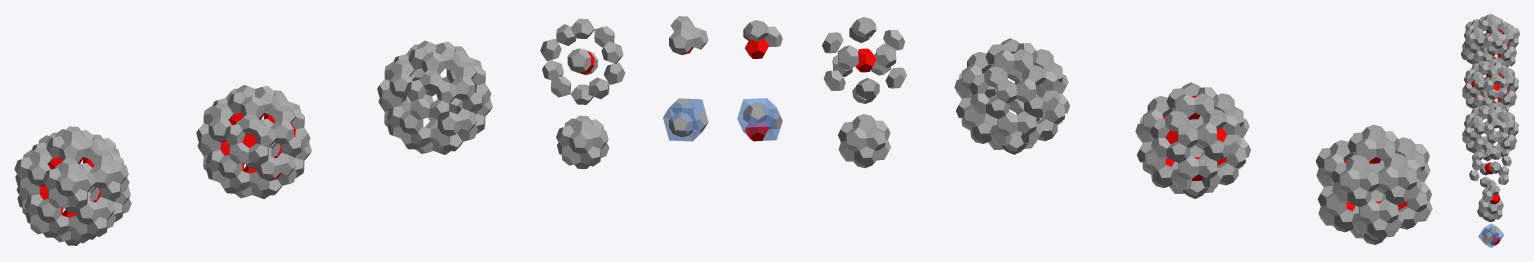
The model's file is form1.dae.
The picture shows the model from 3 angles, left to right: view 1: azimuth 30°, elevation 25°; view 2: azimuth 150°, elevation 25°; view 3: azimuth 270°, elevation 25°; orthographic projection. The views are drawn at different scales.
Parts seen in each view (by area): view 1: D1 (×20), P1, P2; view 2: D1 (×15), D2 (×5), D3 (×3), P3, P4, D4; view 3: D2 (×56), D1 (×27), D3 (×17), D4 (×3), P2, P3, P4.
Part boxes in pixels (bbox=[...]): D1 (×20): bbox=[27, 30, 692, 224]; P1: bbox=[663, 107, 698, 141]; P2: bbox=[689, 100, 705, 140]; D1 (×15): bbox=[838, 44, 1416, 223]; D2 (×5): bbox=[866, 79, 1378, 191]; D3 (×3): bbox=[744, 17, 876, 123]; P3: bbox=[737, 98, 776, 127]; P4: bbox=[737, 118, 776, 140]; D4: bbox=[855, 48, 876, 72]; D2 (×56): bbox=[1462, 20, 1518, 243]; D1 (×27): bbox=[1464, 18, 1519, 209]; D3 (×17): bbox=[1471, 14, 1512, 235]; D4 (×3): bbox=[1484, 162, 1500, 245]; P2: bbox=[1478, 227, 1496, 247]; P3: bbox=[1484, 223, 1503, 238]; P4: bbox=[1485, 233, 1503, 247].
Size of the model in its own units: 3415 by 513 by 775.
